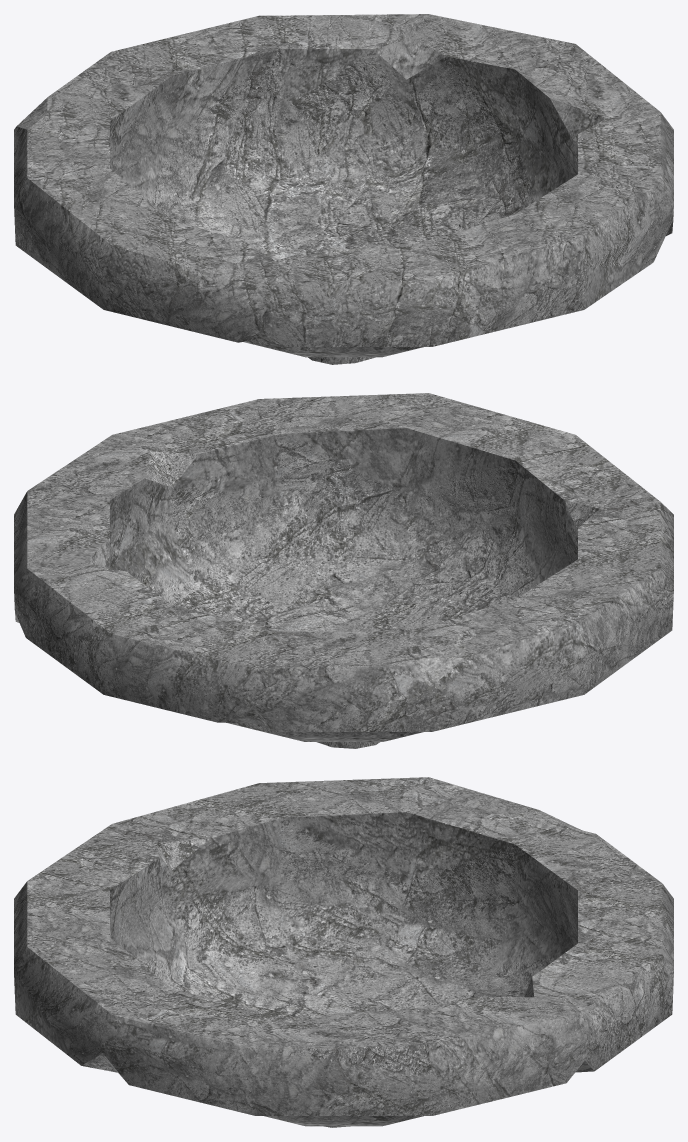
The model's file is materials_3_rubble_19.fbx.
The picture shows the model from 3 angles, top to bottom: view 1: azimuth 30°, elevation 25°; view 2: azimuth 150°, elevation 25°; view 3: azimuth 270°, elevation 25°; orthographic projection.
Visible parts, largest first — view 1: materials_3_rubble_19; view 2: materials_3_rubble_19; view 3: materials_3_rubble_19.
Part boxes in pixels (<box>): materials_3_rubble_19: <box>14,14,673,364</box>; materials_3_rubble_19: <box>14,393,673,748</box>; materials_3_rubble_19: <box>14,777,673,1127</box>.
Bounding box in the file's own units: 227 × 78.82 × 227.
